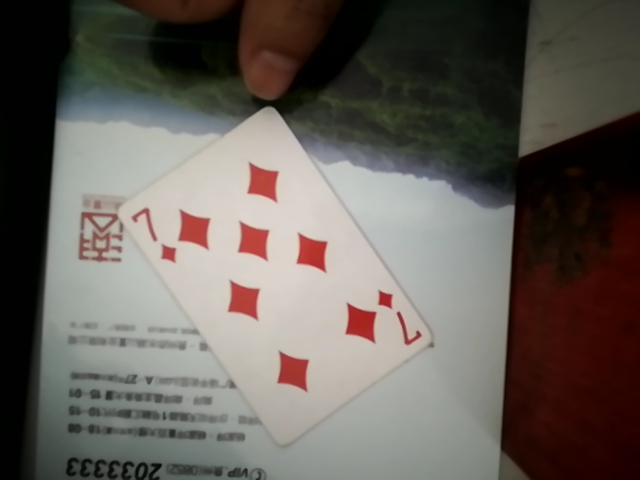fk 7: (85, 98, 430, 440)
